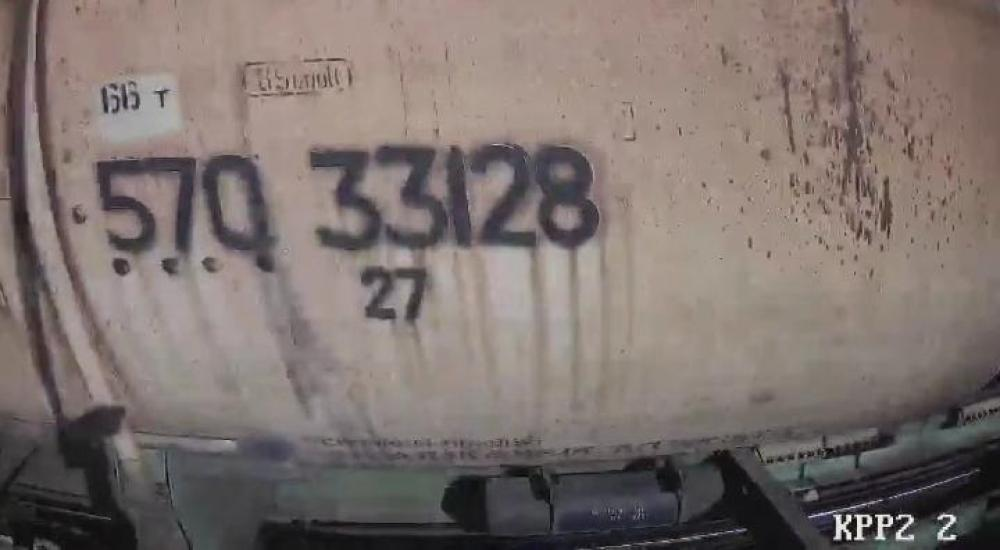Wagon-number: (94, 138, 603, 256)
